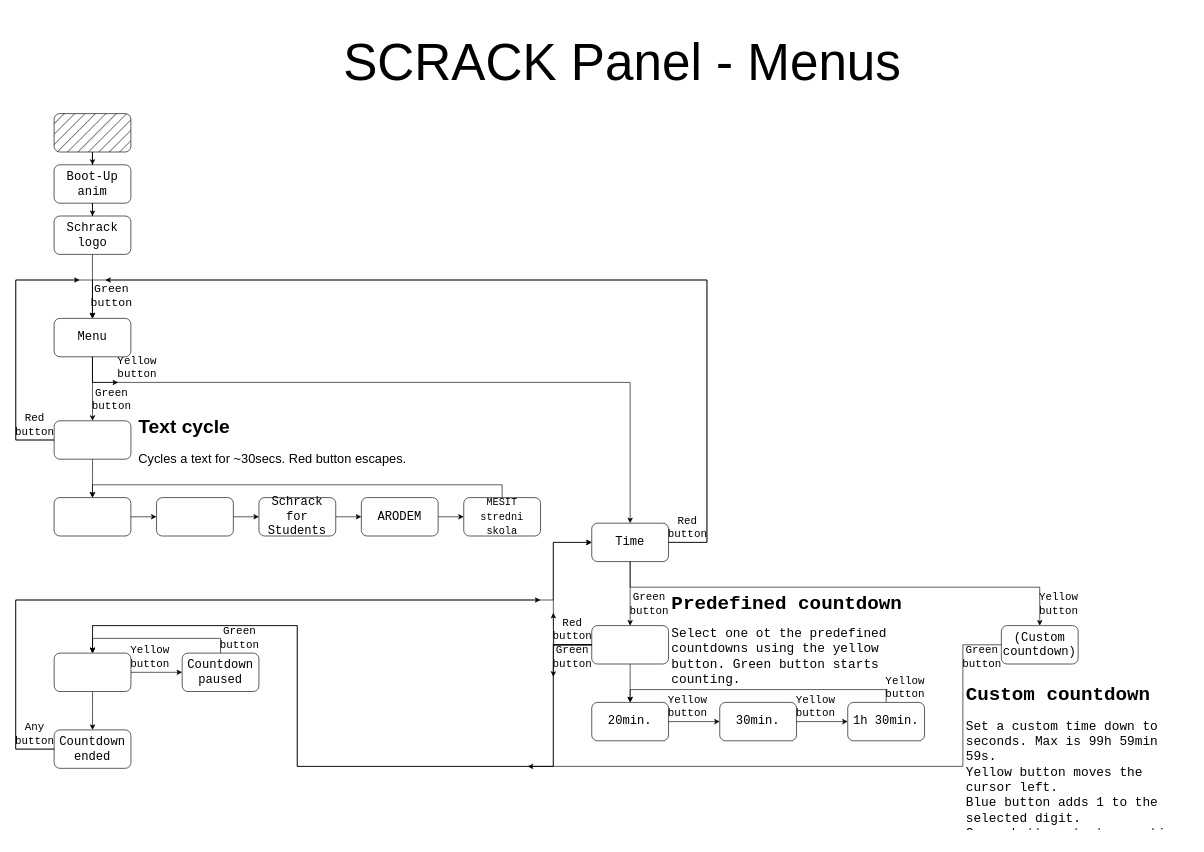
This 1204x852 diagram has some shape labels left out. Here are the shapes that lost their labels. From the top down, the centre of each, then its label:
At point (92, 132): "Boot".
At point (92, 439): "(Text cycle)".
At point (92, 516): "Schrack Technik".
At point (194, 516): "Get Ready, Get Schrack".
At point (630, 644): "(Predefined countdown)".
At point (92, 672): "Countdown running".
